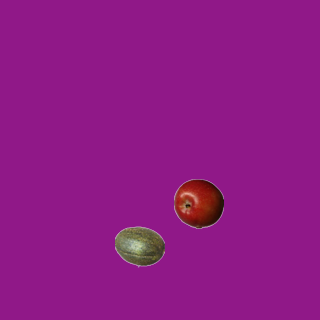Apple Braeburn: (173, 178, 223, 228)
Melon Piel de Sapo: (114, 221, 164, 271)
